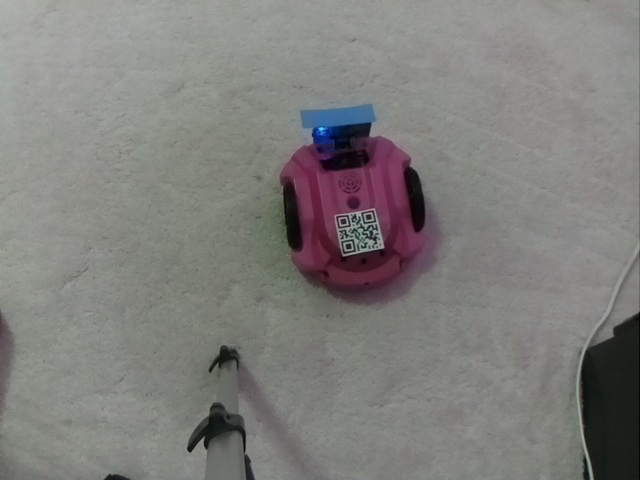chassis: (279, 103, 424, 292)
qr: (334, 204, 387, 259)
